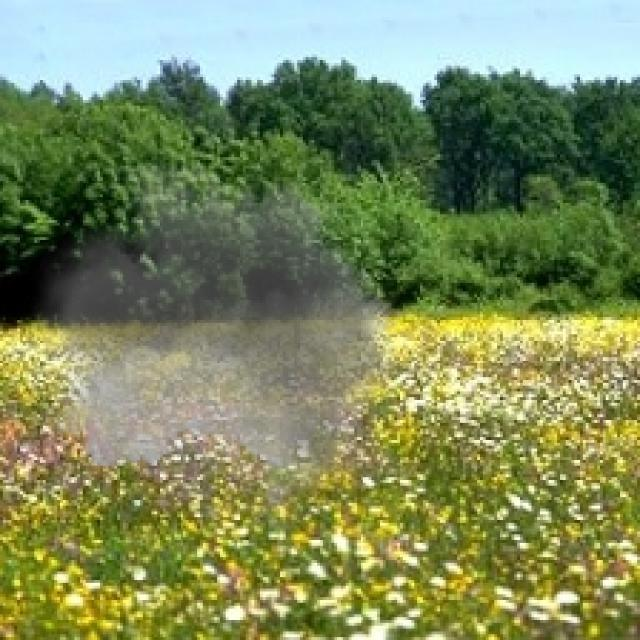Smoke: (29, 139, 418, 552)
